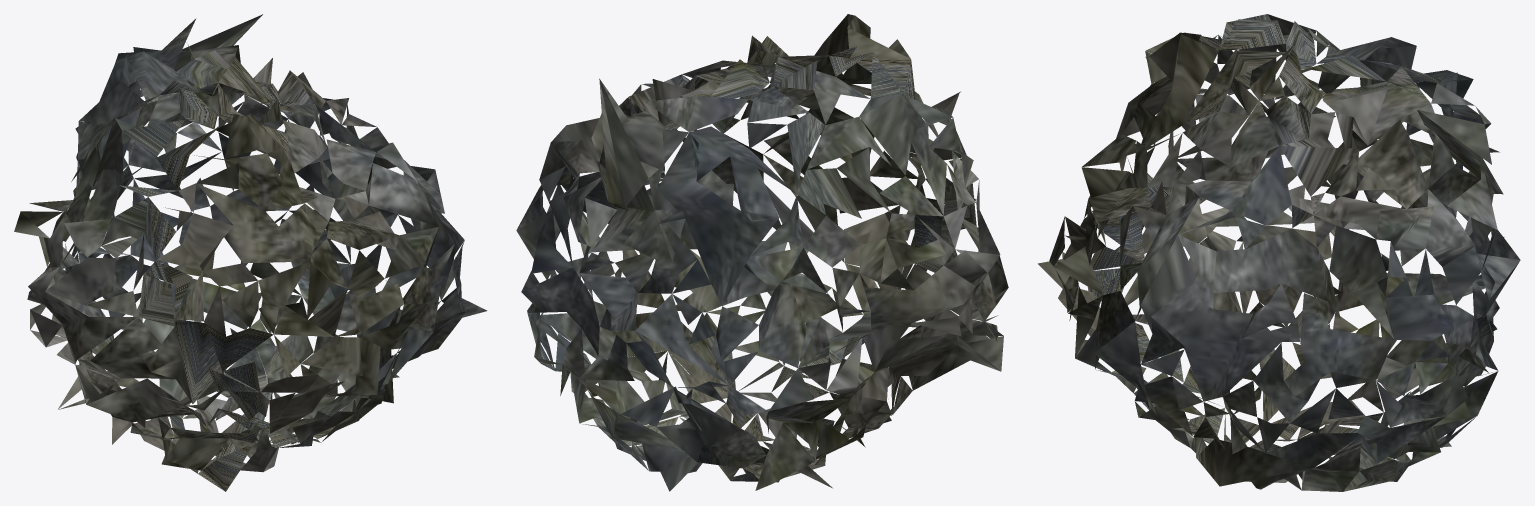
Rendered from stone_b.glb.
The picture shows the model from 3 angles, left to right: view 1: azimuth 30°, elevation 25°; view 2: azimuth 150°, elevation 25°; view 3: azimuth 270°, elevation 25°; orthographic projection. The views are drawn at different scales.
Visible parts, largest first — view 1: stone_b; view 2: stone_b; view 3: stone_b.
Boxes of the visible parts, bbox=[...] form: stone_b: bbox=[14, 14, 487, 491]; stone_b: bbox=[516, 14, 1008, 491]; stone_b: bbox=[1038, 14, 1520, 491].
Bounding box in the file's own units: 1.05 × 0.9982 × 0.9922.
Materials: 1 (1 with a texture image).
